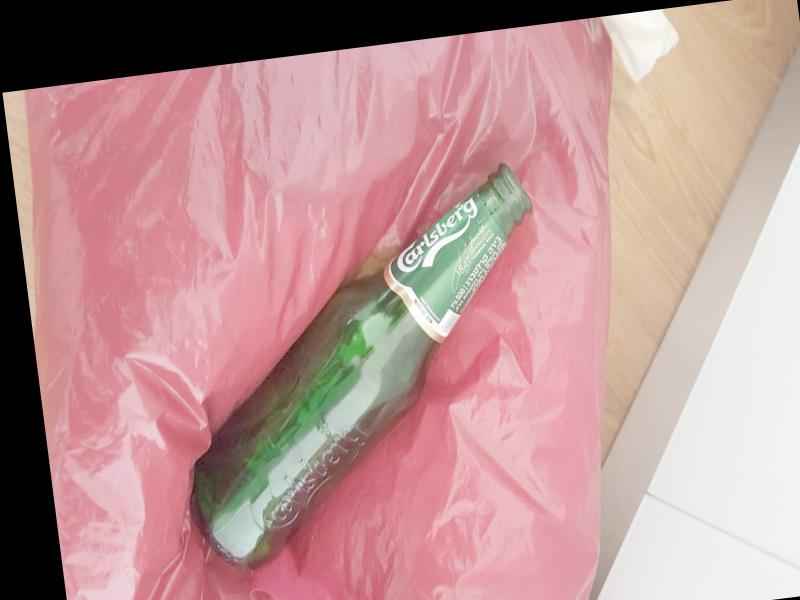Beer: (154, 159, 572, 571)
